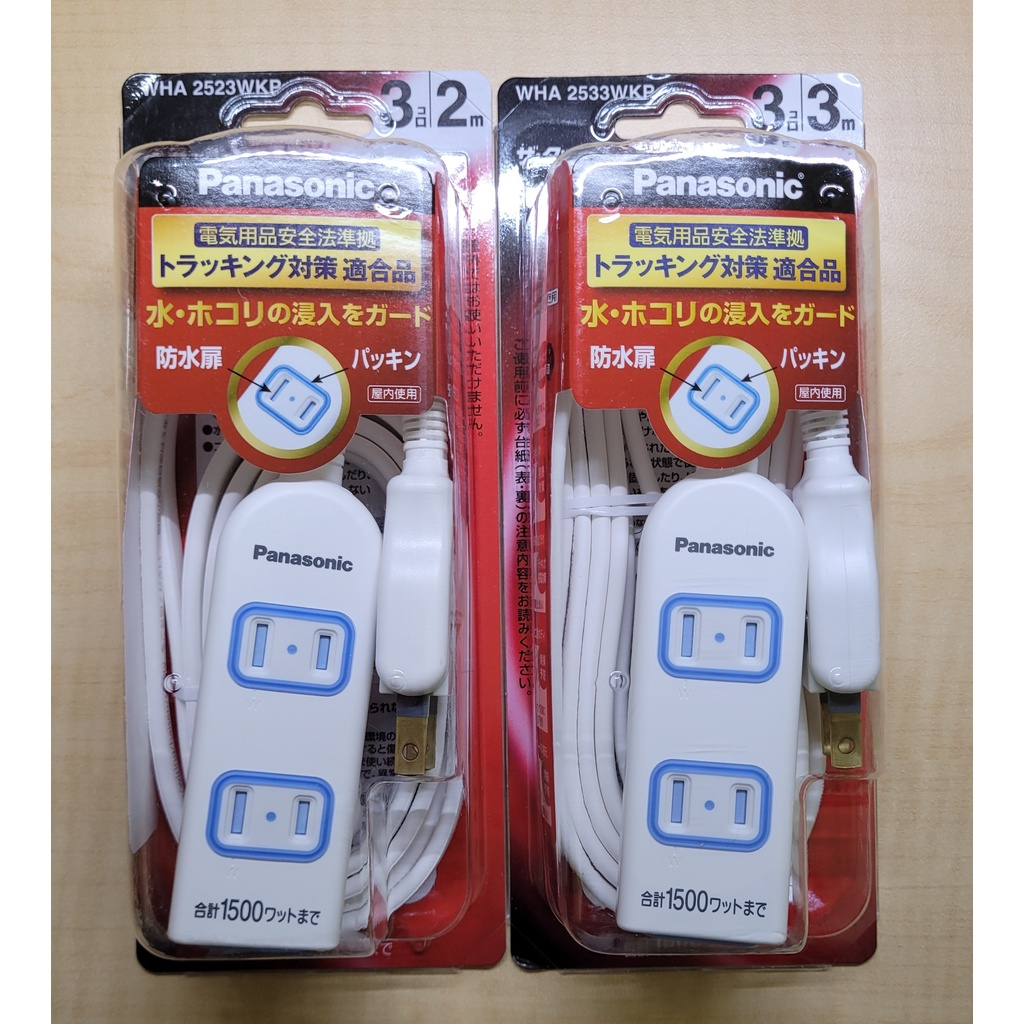socket: (557, 406, 809, 949), (162, 400, 385, 944)
